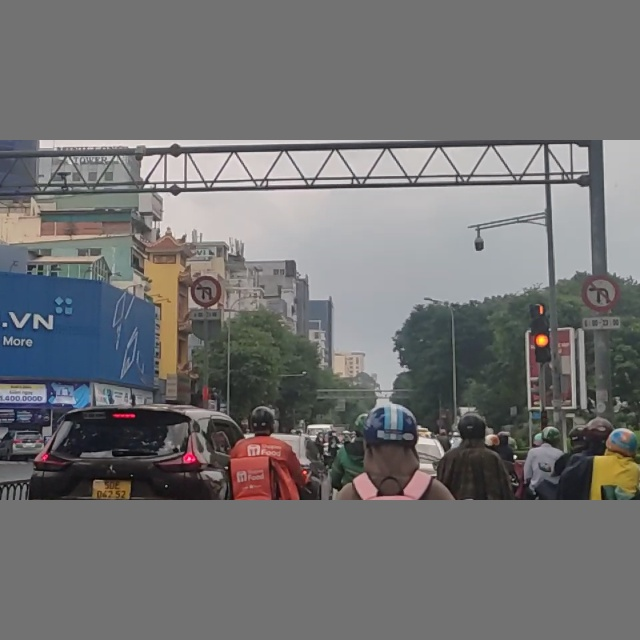P.124c: (582, 277, 616, 313), (191, 275, 221, 307)
